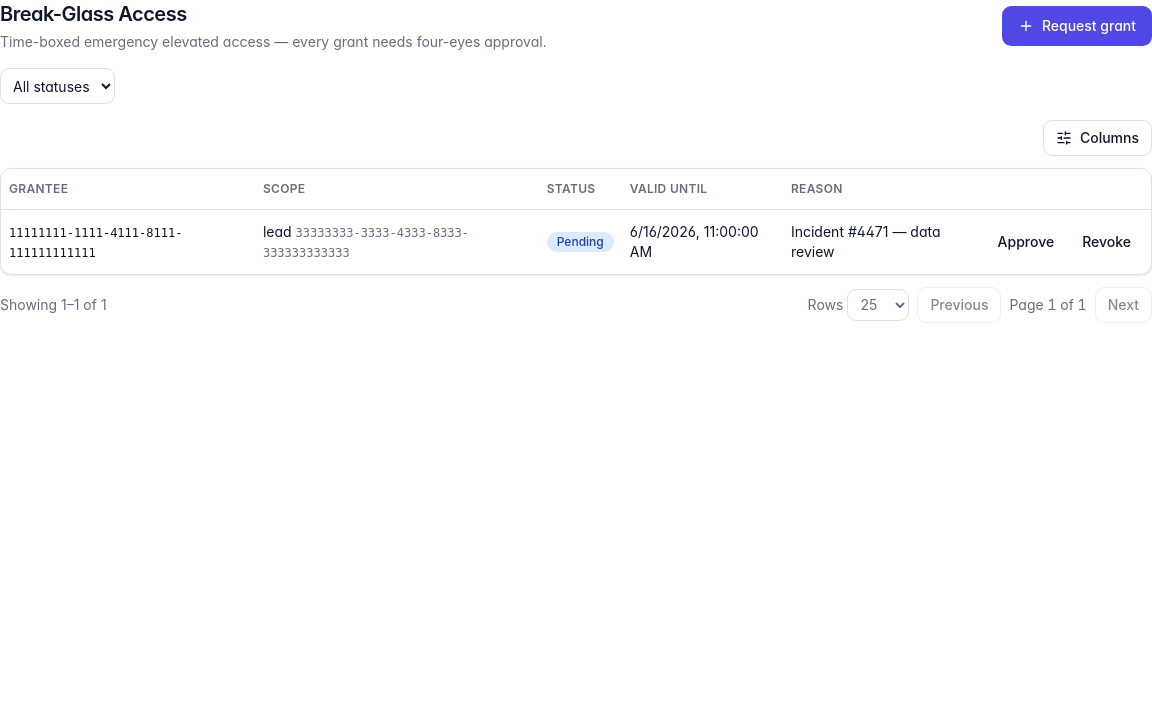
Test: BreakGlassPage › opens the request modal with the grantee defaulted to the current user
Step 1. Click the button "Request grant" → coordinates (1077, 26), box [1002,6,1151,46]
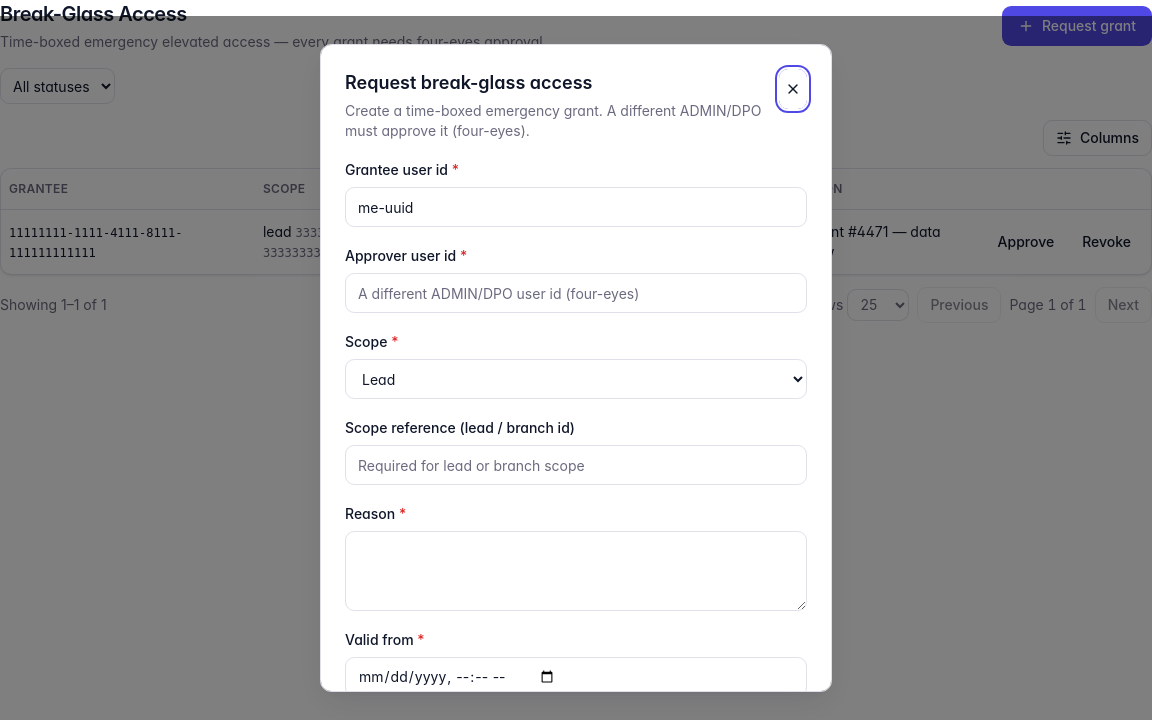
Check: the field labelled "Grantee user id *" holds "me-uuid", box [345,187,807,227]
Check: the field labelled "Approver user id *" is shown, box [345,273,807,313]
Check: the text box labelled "Reason *" is shown, box [345,531,807,611]
